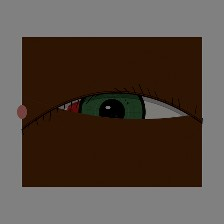hemorrhage_spot: (54, 70, 151, 147)
